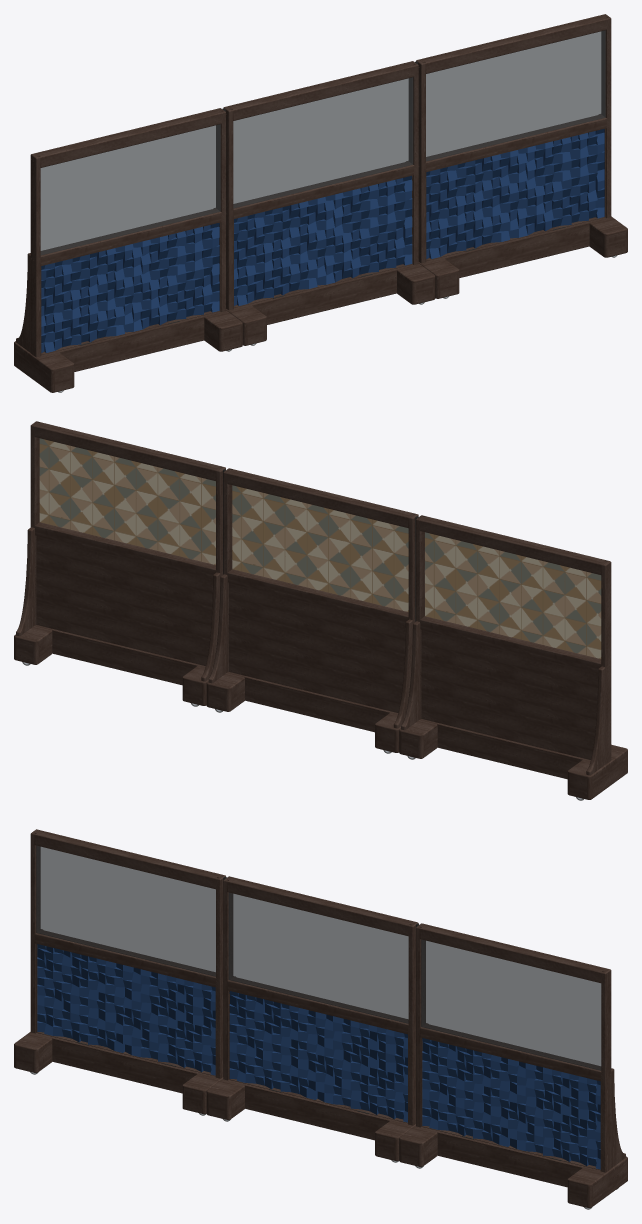
File: v10-linen-marquetry-espresso-three.glb
3 renders of one model, top to bottom at view 1: azimuth 30°, elevation 25°; view 2: azimuth 150°, elevation 25°; view 3: azimuth 330°, elevation 25°, orthographic.
Parts seen in each view (by area): view 1: Left Wood, Left Linen Marquetry reverse, Linen Marquetry reverse, Right Linen Marquetry reverse, Right Navy Everwood relief, Left Navy Everwood relief, Navy Everwood relief, Right Wood, Wood; view 2: Left Wood, Wood, Right Wood, Linen Marquetry print, Right Linen Marquetry print, Left Linen Marquetry print; view 3: Right Wood, Linen Marquetry reverse, Right Linen Marquetry reverse, Left Linen Marquetry reverse, Left Navy Everwood relief, Right Navy Everwood relief, Navy Everwood relief, Left Wood, Wood.
Boxes of the visible parts, left/top/right/bottom form: Left Wood: left=14, top=108, right=242, bottom=392; Left Linen Marquetry reverse: left=40, top=124, right=220, bottom=255; Linen Marquetry reverse: left=233, top=77, right=413, bottom=208; Right Linen Marquetry reverse: left=426, top=30, right=605, bottom=161; Right Navy Everwood relief: left=426, top=128, right=604, bottom=258; Left Navy Everwood relief: left=41, top=223, right=219, bottom=352; Navy Everwood relief: left=234, top=175, right=412, bottom=305; Right Wood: left=416, top=14, right=627, bottom=298; Wood: left=223, top=61, right=435, bottom=345; Left Wood: left=399, top=515, right=627, bottom=799; Wood: left=206, top=468, right=418, bottom=752; Right Wood: left=14, top=421, right=225, bottom=705; Linen Marquetry print: left=232, top=485, right=408, bottom=611; Right Linen Marquetry print: left=39, top=438, right=215, bottom=564; Left Linen Marquetry print: left=425, top=532, right=601, bottom=658; Right Wood: left=399, top=923, right=627, bottom=1207; Linen Marquetry reverse: left=228, top=892, right=408, bottom=1023; Right Linen Marquetry reverse: left=421, top=940, right=601, bottom=1070; Left Linen Marquetry reverse: left=36, top=846, right=215, bottom=976; Left Navy Everwood relief: left=37, top=944, right=215, bottom=1075; Right Navy Everwood relief: left=422, top=1038, right=600, bottom=1169; Navy Everwood relief: left=229, top=991, right=407, bottom=1122; Left Wood: left=14, top=829, right=225, bottom=1114; Wood: left=206, top=876, right=418, bottom=1161.
Size of the model in its own units: 5.03 by 1.91 by 0.5842.
Materials: 10 (2 with a texture image).
